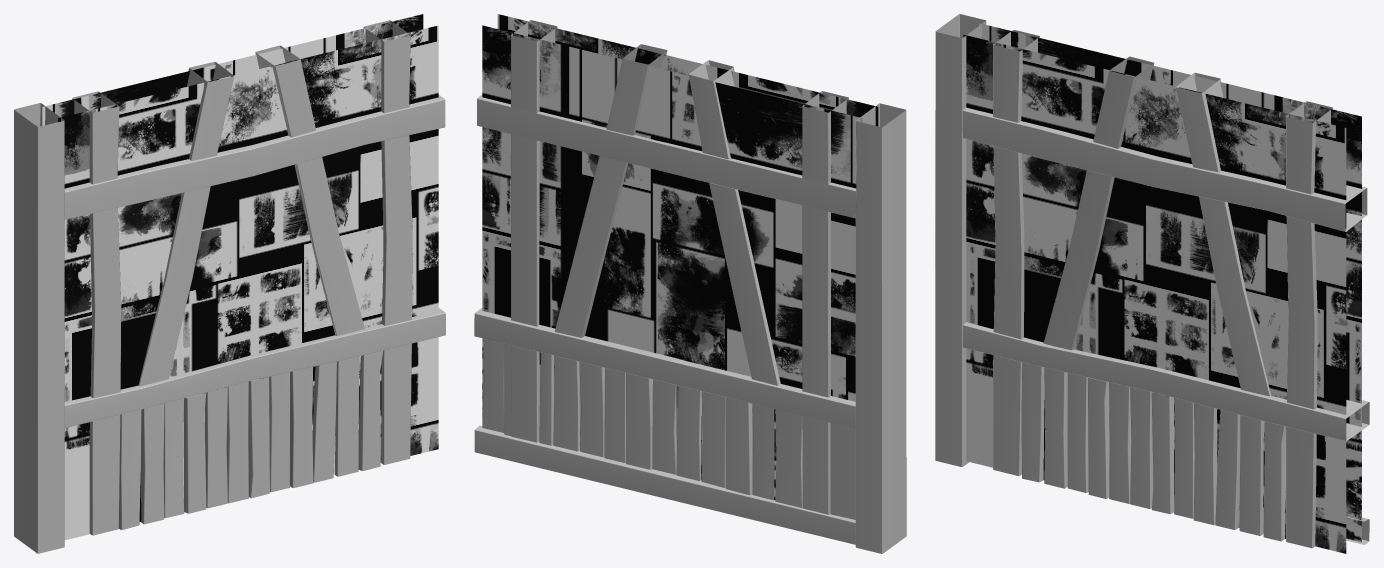
File: SM_wall01_Wall_008.fbx
3 views of the same model, side by side, from view 1: azimuth 30°, elevation 25°; view 2: azimuth 150°, elevation 25°; view 3: azimuth 330°, elevation 25° (orthographic).
Visible parts, largest first — view 1: SM_wall01_Wall_008_LOD0; view 2: SM_wall01_Wall_008_LOD0; view 3: SM_wall01_Wall_008_LOD0.
Boxes of the visible parts, x1,y1,x2,y2 form: SM_wall01_Wall_008_LOD0: (14, 14, 445, 553); SM_wall01_Wall_008_LOD0: (474, 14, 906, 553); SM_wall01_Wall_008_LOD0: (935, 14, 1369, 553).
Size of the model in its own units: 303 by 31.03 by 304.
